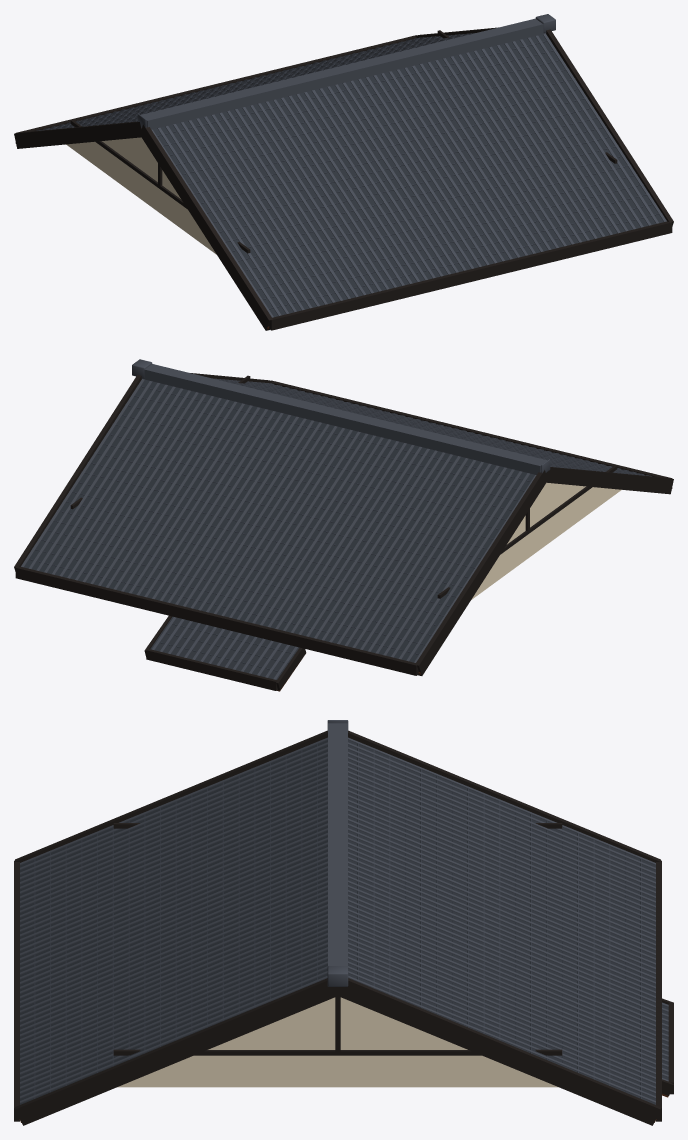
File: Roof_Gable.fbx
3 renders of one model, top to bottom at view 1: azimuth 30°, elevation 25°; view 2: azimuth 150°, elevation 25°; view 3: azimuth 270°, elevation 25°, orthographic. The views are drawn at different scales.
Visible parts, largest first — view 1: Roof_Gable; view 2: Roof_Gable, Entry_Canopy; view 3: Roof_Gable, Entry_Canopy.
Part boxes in pixels (x1,y1,x2,y2): Roof_Gable: (14, 14, 673, 330); Roof_Gable: (14, 359, 673, 675); Entry_Canopy: (144, 615, 306, 691); Roof_Gable: (14, 720, 661, 1125); Entry_Canopy: (662, 998, 673, 1097).
Bounding box in the file's own units: 1394 × 545 × 1532.
